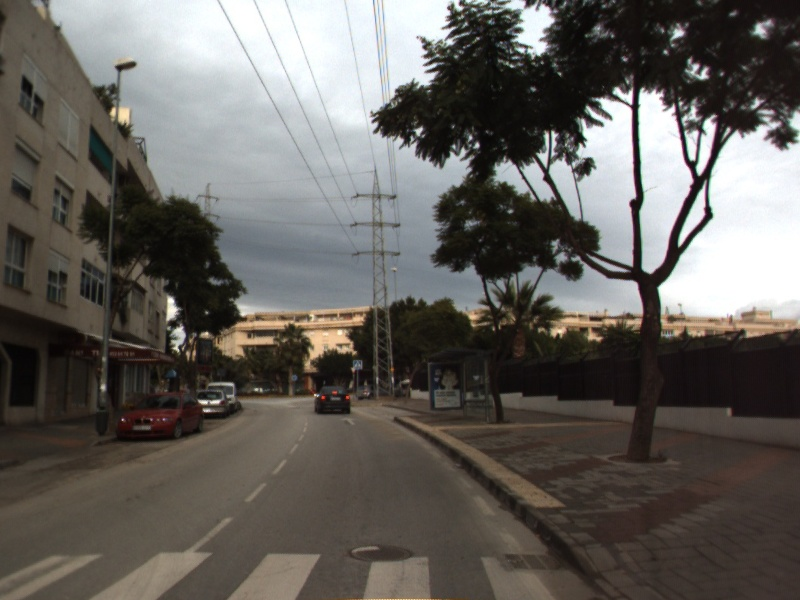STRAIGHT: (339, 415, 360, 427)
